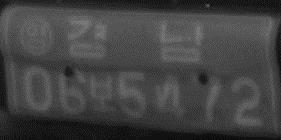0: (22, 64, 55, 112)
2: (228, 75, 266, 128)
4: (155, 72, 188, 122)
5: (116, 69, 149, 121)
6: (57, 65, 88, 116)
7: (191, 71, 224, 125)
경남_D: (65, 17, 206, 65)
보: (89, 71, 117, 117)
영: (18, 15, 54, 58)
